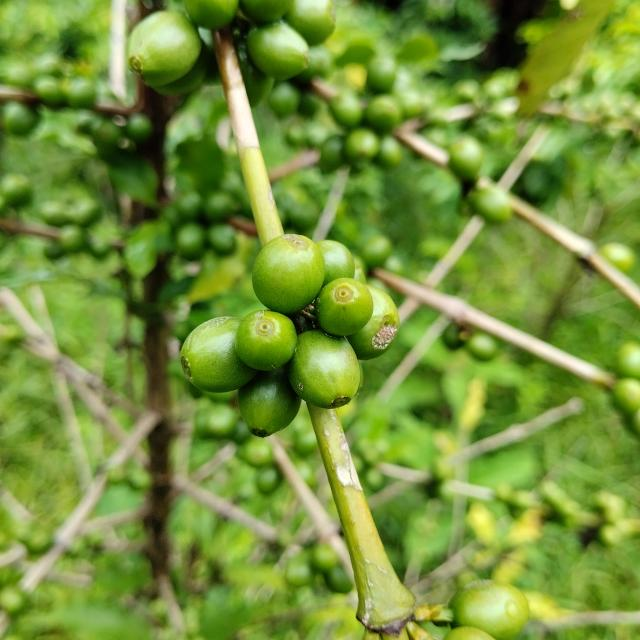green: (180, 316, 258, 393), (287, 330, 361, 409), (252, 234, 325, 314), (126, 10, 201, 86), (237, 366, 301, 438), (347, 285, 400, 361), (235, 310, 297, 371), (246, 20, 309, 79), (314, 278, 374, 336), (315, 240, 355, 286)
